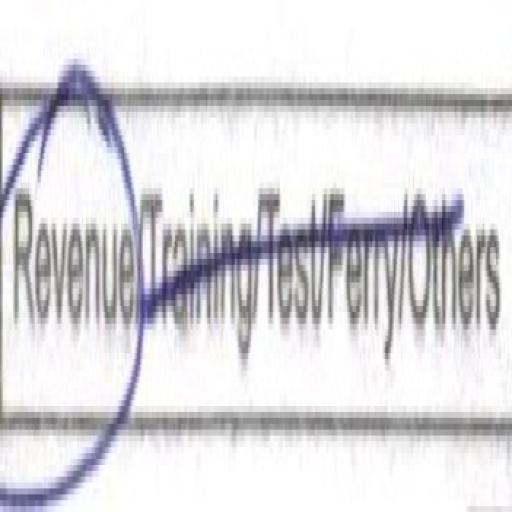check: (3, 79, 135, 512)
